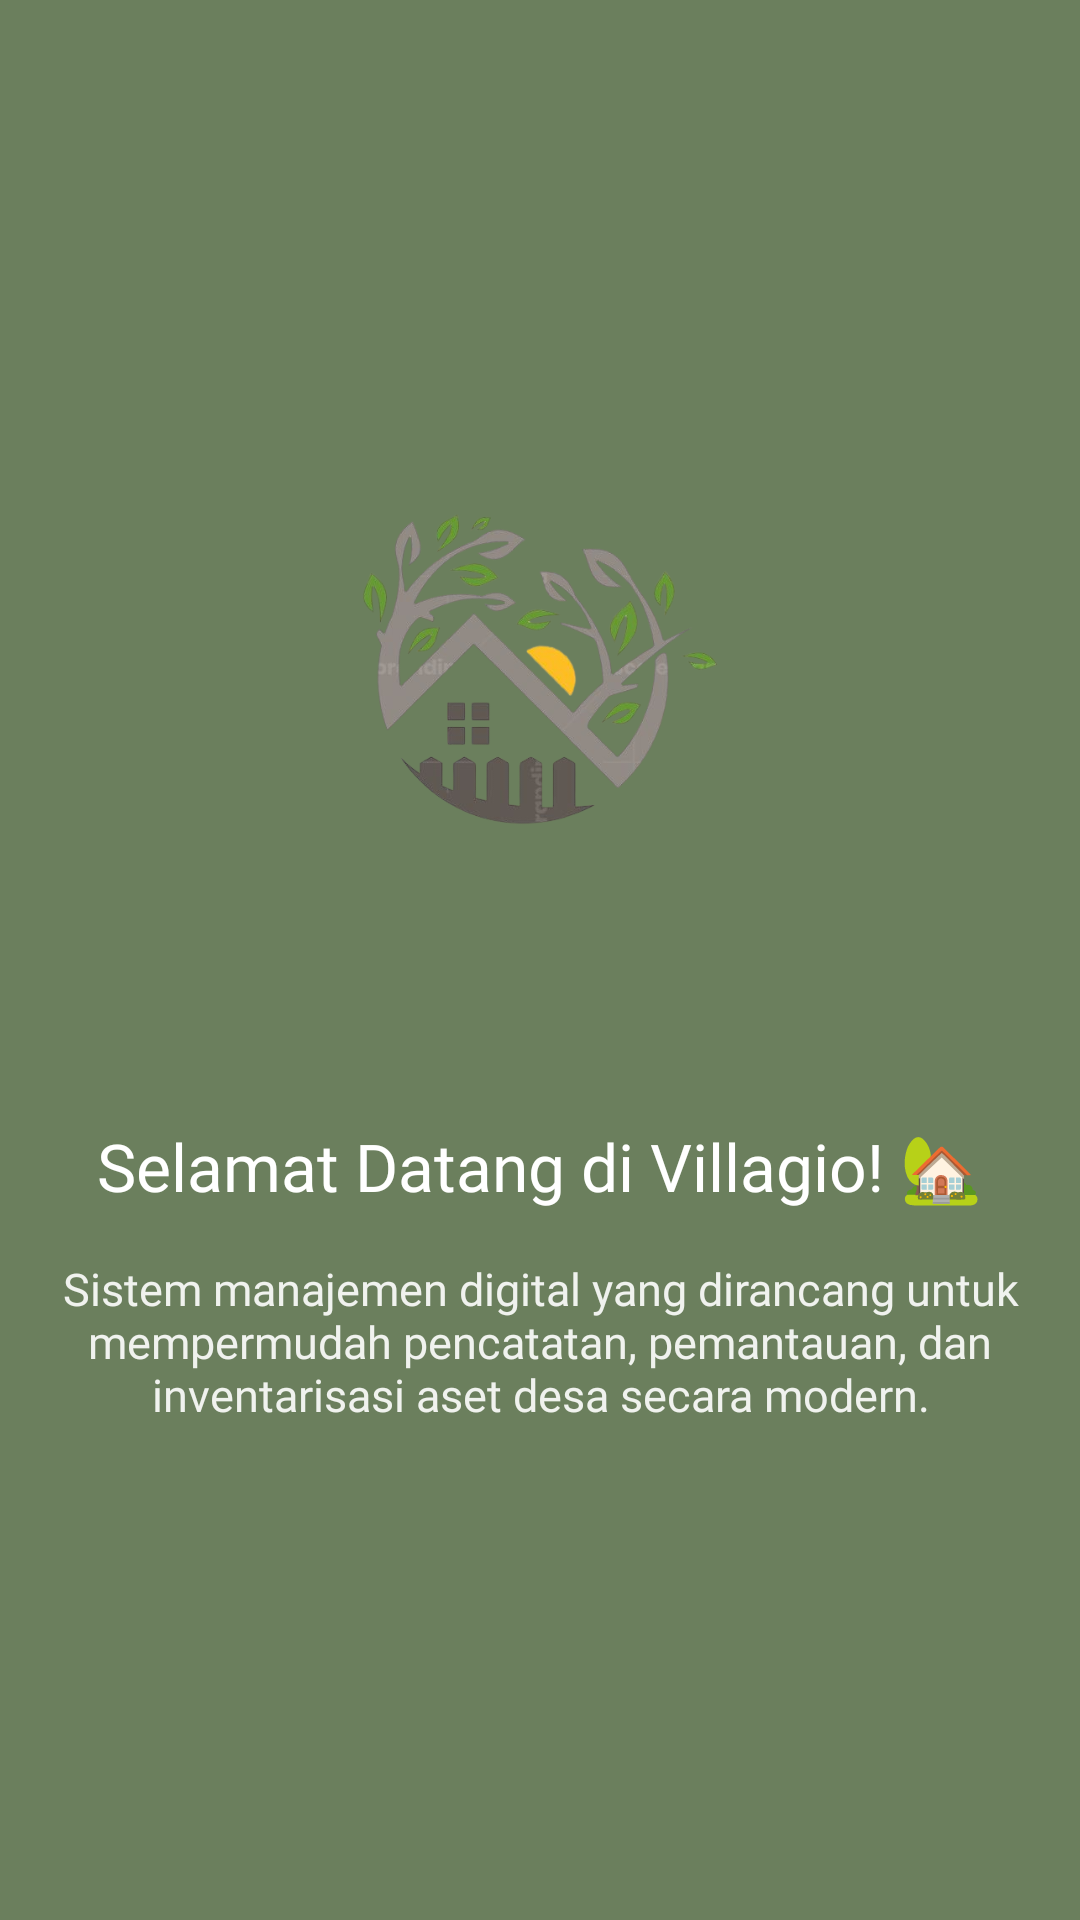

Icon click points for this 1080w x 1920h phone screenshot, format (x=x, y=y):
gambar: (x=539, y=670)
